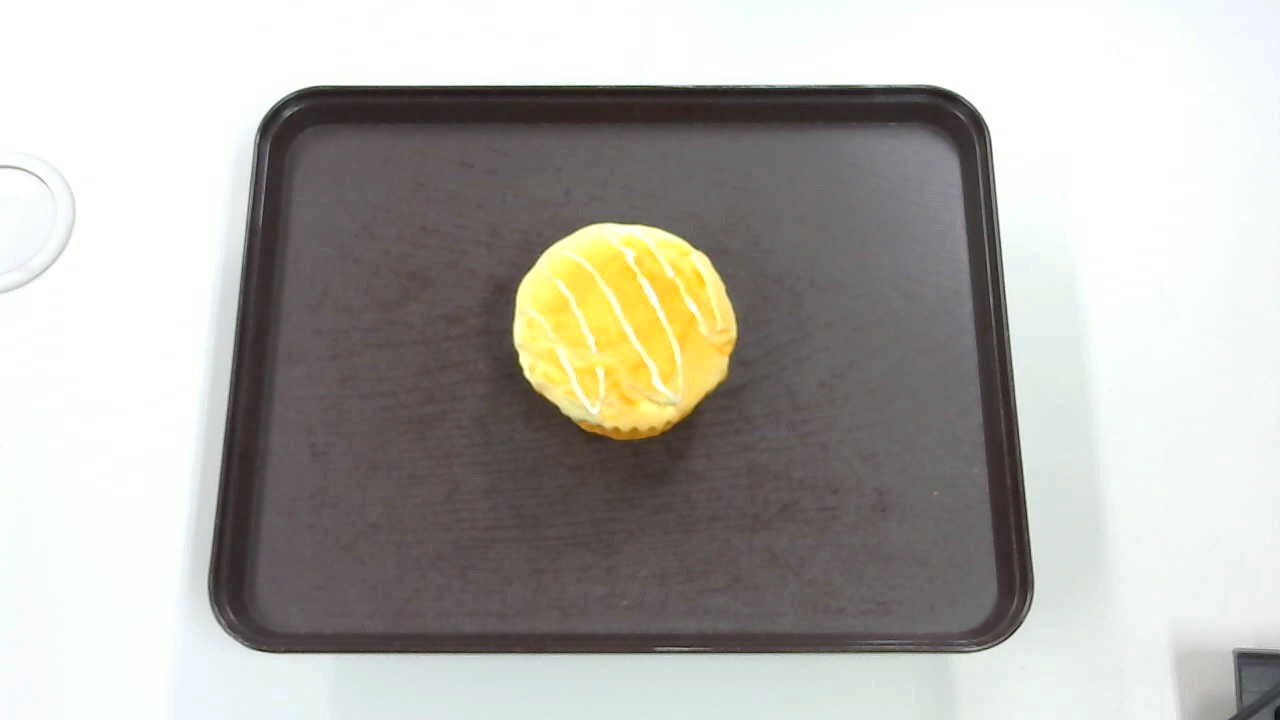cupcake: (514, 222, 738, 441)
